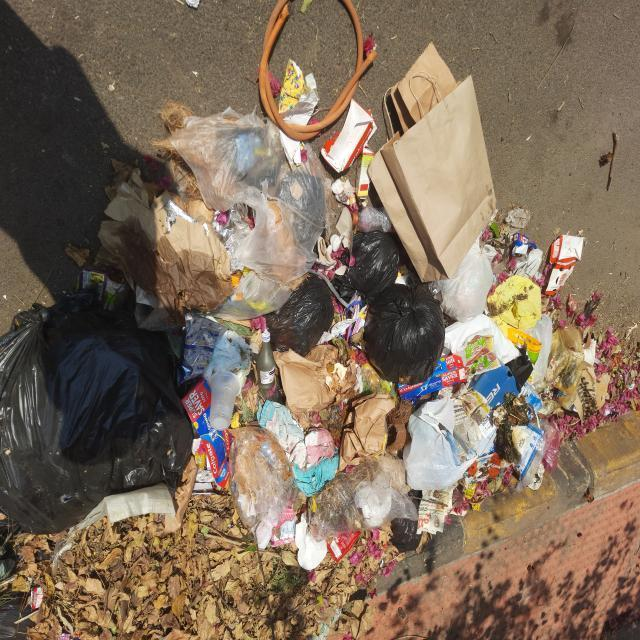Cig_pack: (30, 587, 44, 610)
Disposable: (209, 372, 242, 430), (256, 342, 275, 390)
Garbage: (0, 0, 640, 640)
Nylog_sting: (309, 268, 354, 318)
Plastic_Bag: (0, 288, 192, 533), (170, 108, 325, 320), (308, 457, 418, 542), (229, 425, 298, 548), (364, 283, 445, 383), (404, 397, 474, 490), (265, 275, 334, 357), (435, 238, 494, 322), (332, 232, 399, 305), (338, 232, 399, 305), (204, 330, 251, 385), (545, 327, 584, 392), (512, 423, 545, 492), (0, 592, 35, 640), (51, 525, 80, 575), (540, 418, 561, 473), (391, 518, 421, 553), (139, 308, 179, 332), (268, 373, 286, 405), (409, 490, 421, 508), (340, 248, 350, 265)
Plastic_Straw: (346, 323, 352, 342), (355, 294, 358, 301), (351, 313, 354, 319), (353, 305, 356, 310)
Plastic_bottle: (256, 328, 275, 390), (351, 207, 394, 232)
Plastic_wraper: (178, 315, 225, 383), (546, 235, 584, 295), (78, 270, 106, 300), (191, 438, 206, 470), (166, 332, 184, 358), (572, 358, 575, 362)
Thermocol: (104, 483, 175, 523)
